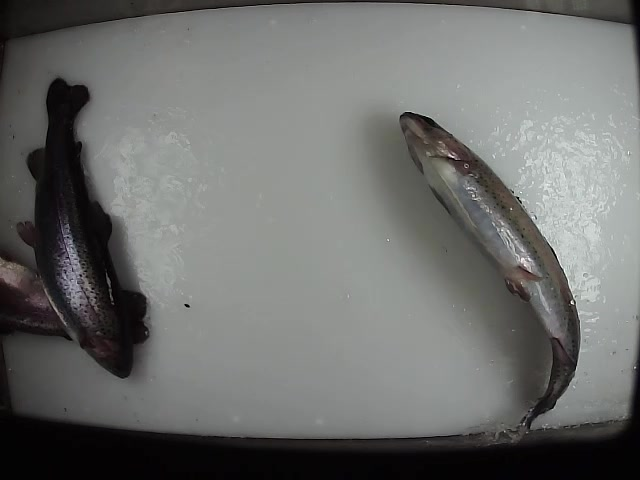fish: (397, 109, 584, 431), (16, 76, 136, 381)
